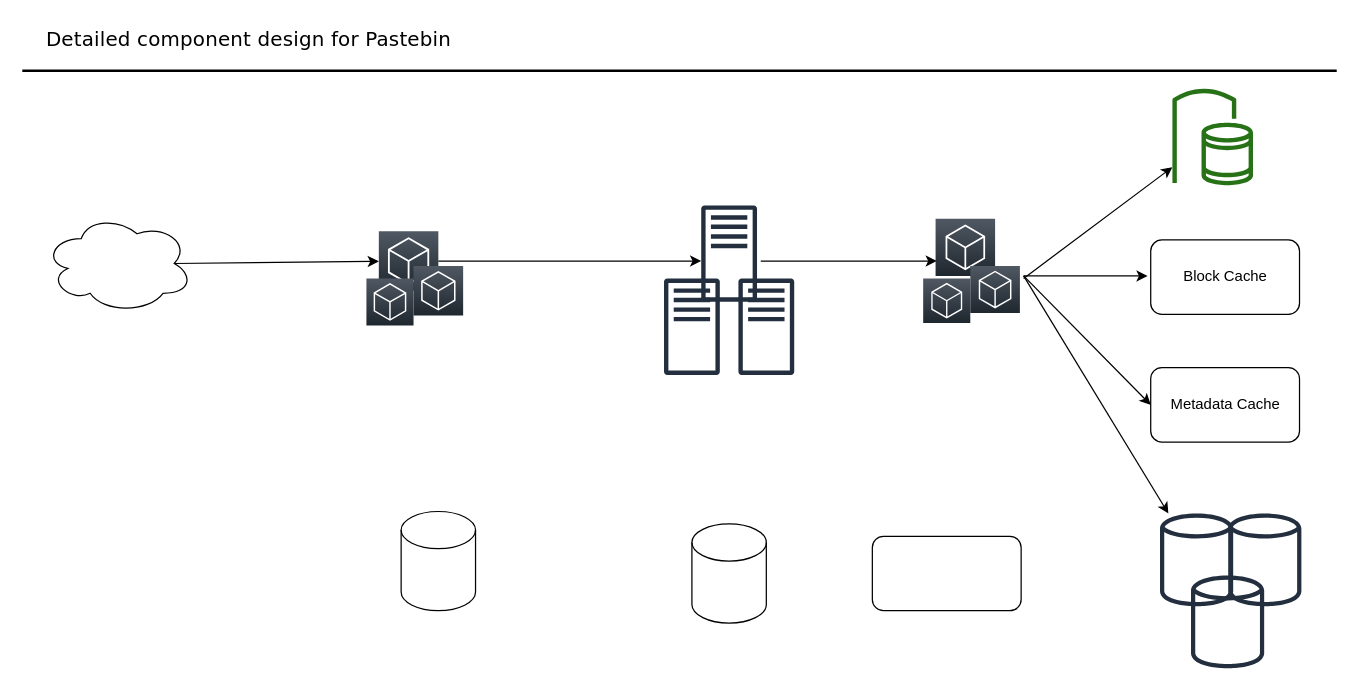
This 1359x692 diagram has some shape labels left out. The centre of each missing label's shape, as x and y in pixels:
"Cleanup Service" goes at point (946, 573).
"Client" goes at point (118, 263).
